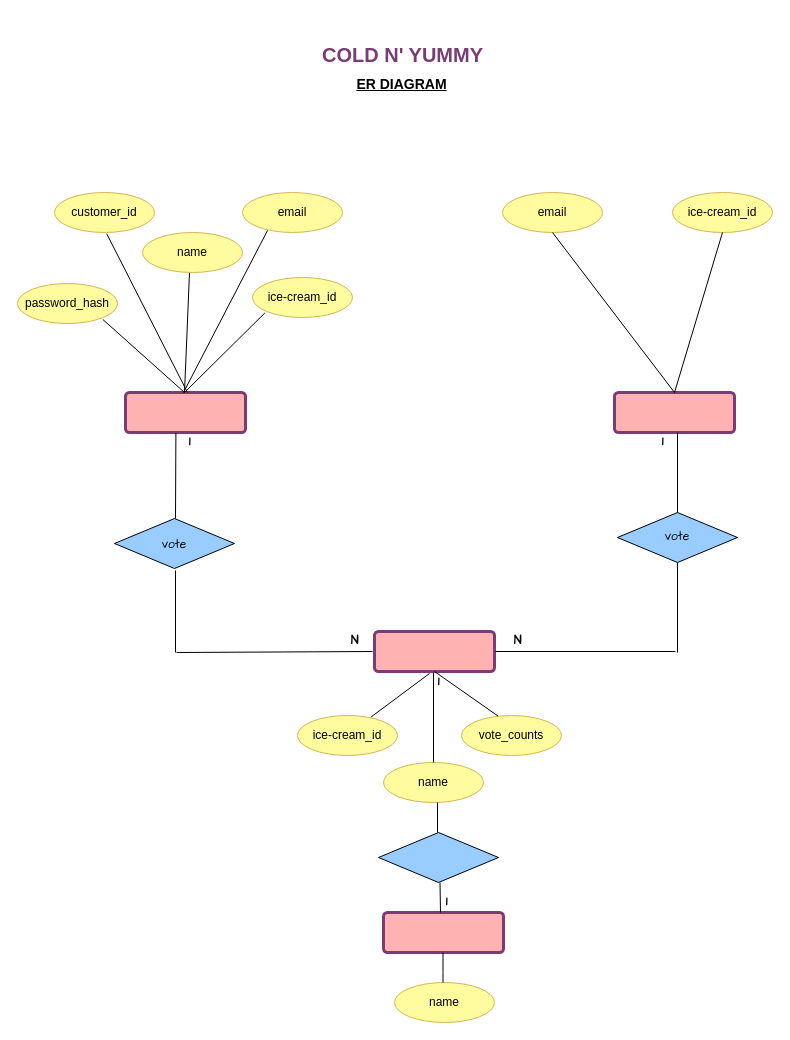
Image size: 790x1040. Some labels were removed from this diagram. Here are the shapes that lost their labels. From the top down, the centre of each, then its label:
At point 185,412: "regi_customers".
At point 674,412: "unreg_customers".
At point 434,651: "ice-creams".
At point 438,857: "get".
At point 443,932: "images".
